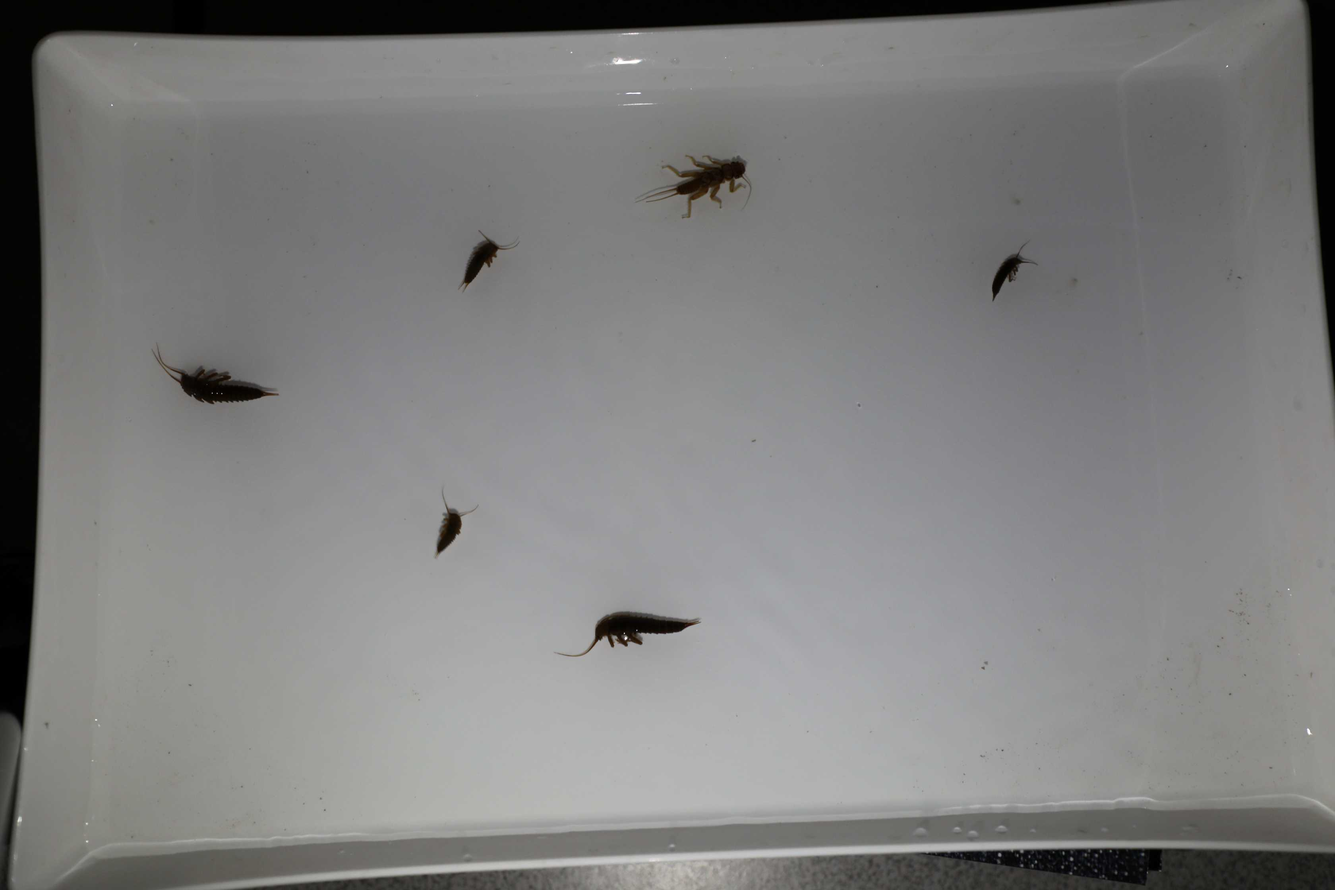Stonefly: (631, 150, 753, 225), (149, 345, 277, 406), (548, 613, 700, 659), (456, 228, 515, 296), (989, 241, 1040, 301), (434, 489, 477, 560)
